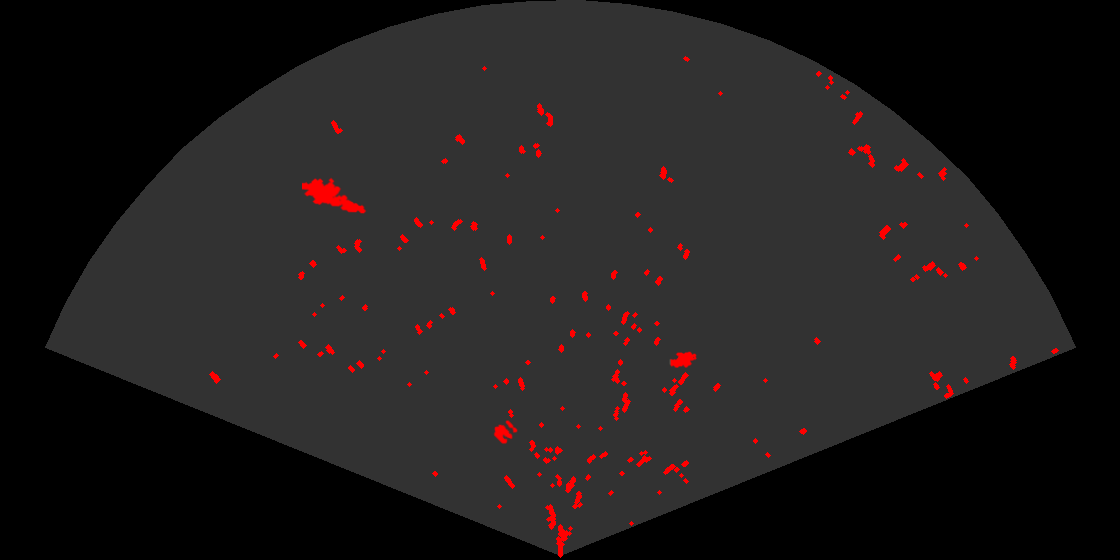AUV: (669, 350, 698, 368)
ball: (492, 419, 519, 446)
frogman: (302, 176, 368, 215)
